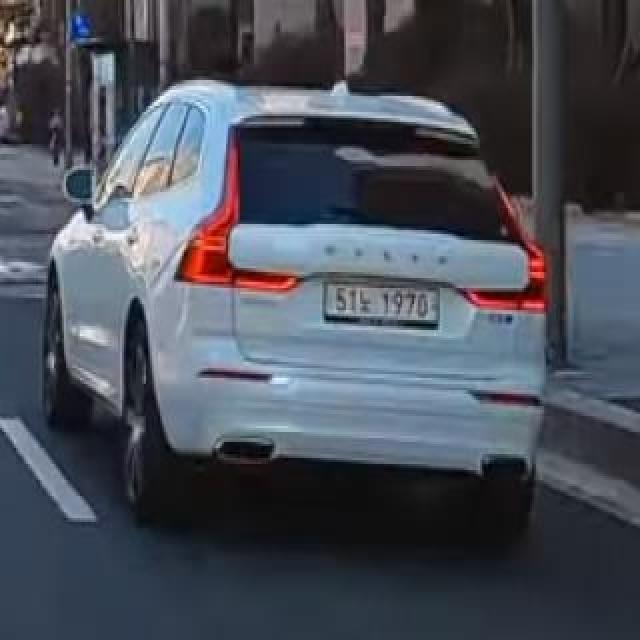car: (32, 70, 557, 545)
illegal_plate: (328, 281, 440, 331)
